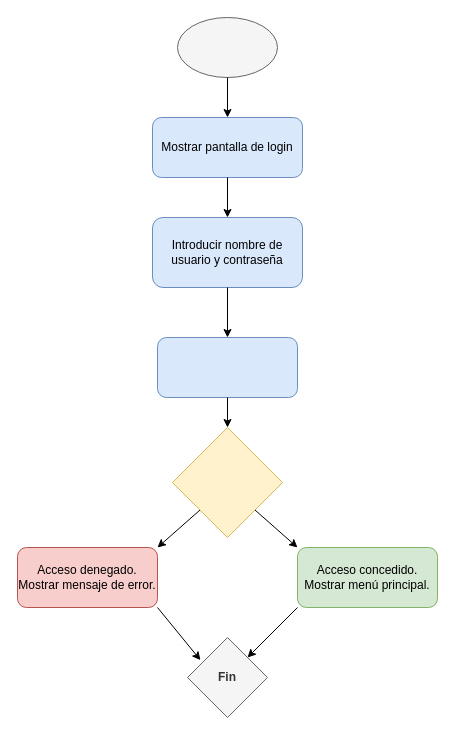
Image size: 455x735. Some labels were removed from this diagram. Each missing label, with the centre of its shape:
"Inicio" belongs at (x=227, y=47).
"Validad credenciales en la base de datos" belongs at (x=227, y=367).
"¿Credenciales válidas?" belongs at (x=227, y=482).
